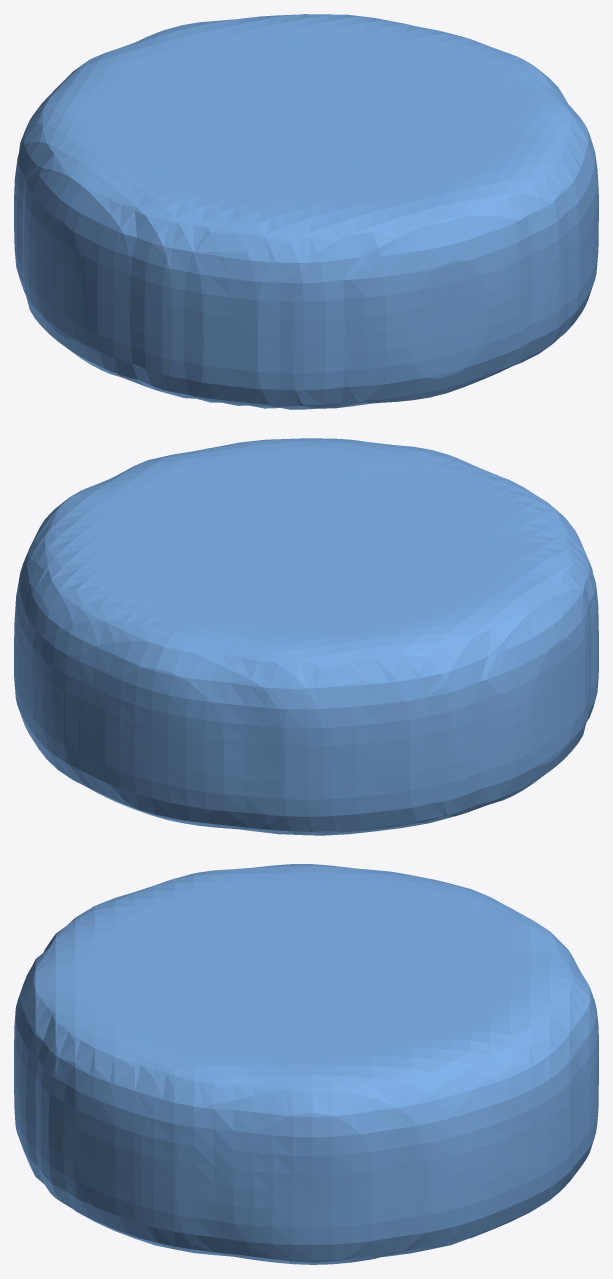
Rendered from water_0001.glb.
3 views of the same model, one above another, from view 1: azimuth 30°, elevation 25°; view 2: azimuth 150°, elevation 25°; view 3: azimuth 270°, elevation 25° (orthographic).
Parts seen in each view (by area): view 1: Water_0001; view 2: Water_0001; view 3: Water_0001.
Part boxes in pixels (x1=…): Water_0001: x1=14, y1=14, x2=598, y2=409; Water_0001: x1=14, y1=438, x2=598, y2=835; Water_0001: x1=14, y1=864, x2=598, y2=1264.
Size of the model in its own units: 1.72 by 0.7275 by 1.73.
